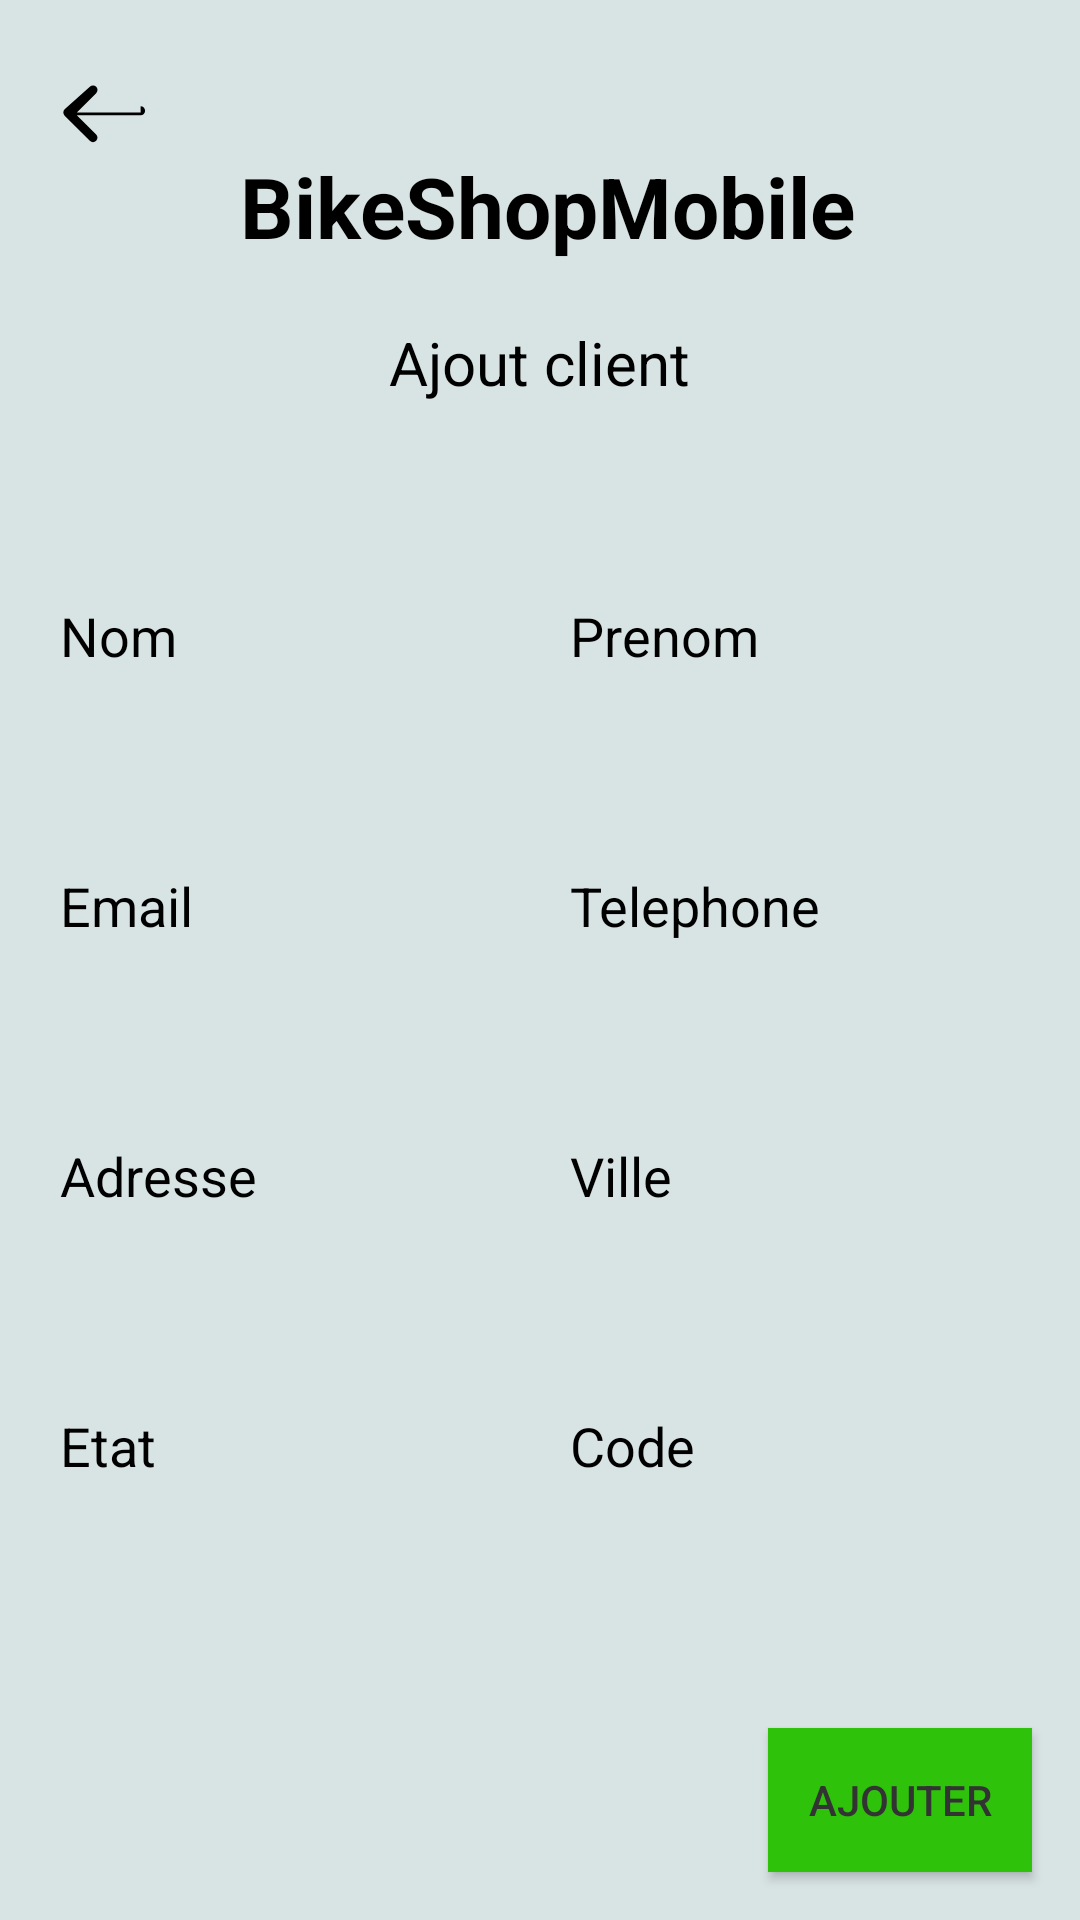

Named icons in this screenshot (1080w x 1920h) and their centers, [x,y]:
back: [104,114]
